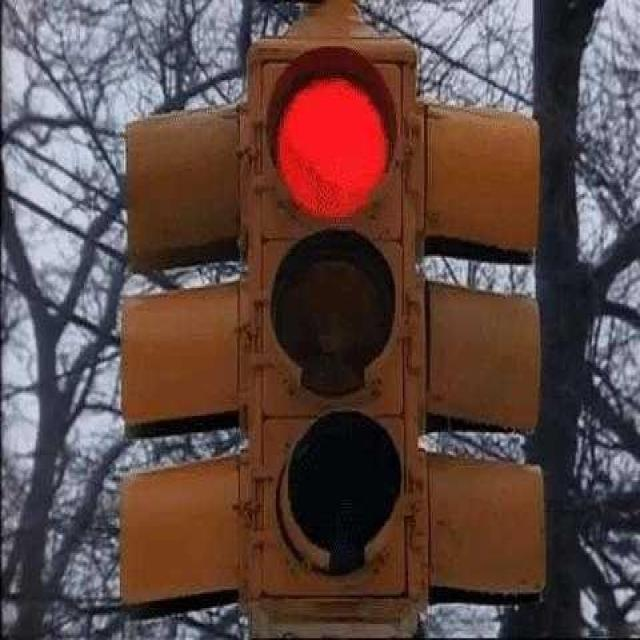Traffic Light -Red-: (244, 39, 429, 585)
